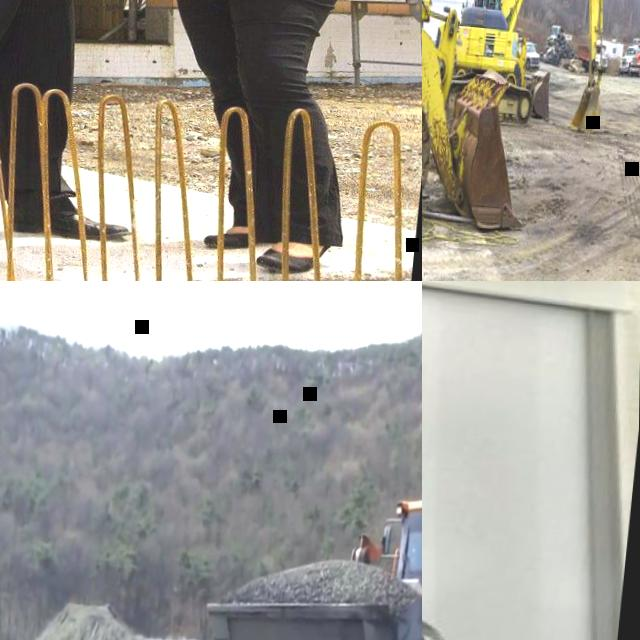Hardhat: (524, 39, 527, 43)
Person: (97, 0, 422, 281), (0, 0, 189, 271), (422, 281, 518, 640), (519, 38, 529, 77)
Safety Vest: (522, 46, 527, 60)
vehicle: (180, 463, 422, 640), (422, 0, 564, 244), (429, 0, 621, 134), (576, 40, 611, 76), (515, 36, 542, 70), (619, 35, 640, 74), (547, 24, 574, 54), (630, 38, 640, 78)
